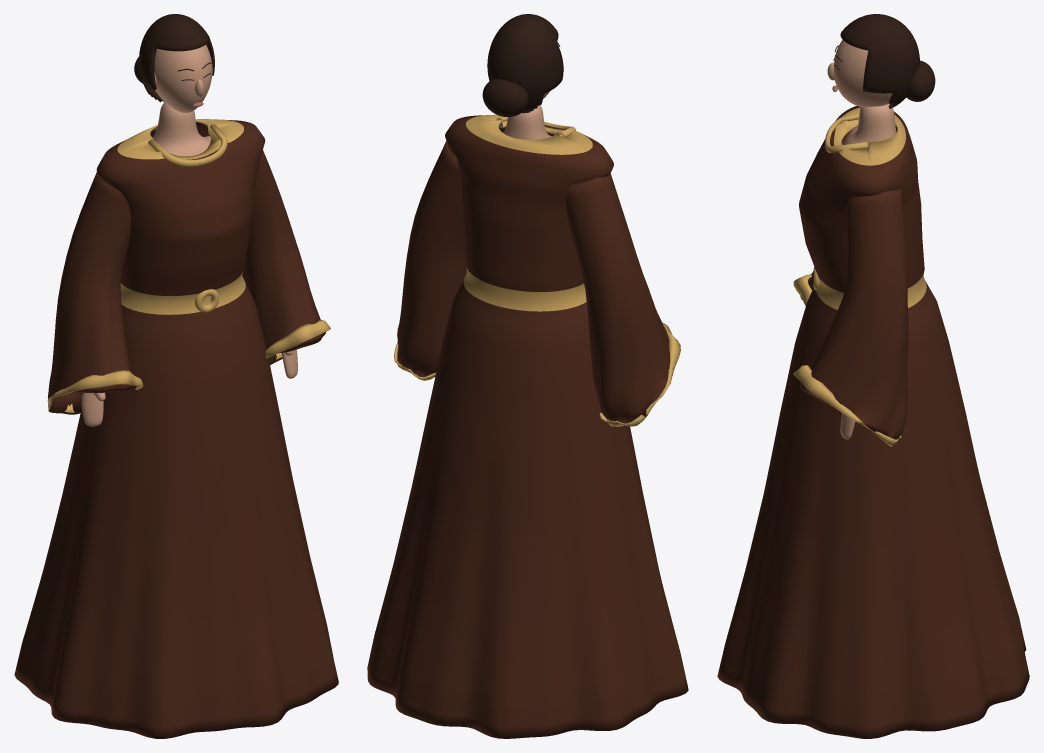
File: kaftan-model-01.glb
3 renders of one model, left to right at view 1: azimuth 30°, elevation 25°; view 2: azimuth 150°, elevation 25°; view 3: azimuth 270°, elevation 25°, orthographic.
Visible parts, largest first — view 1: Kaftan, Body, Hair; view 2: Kaftan, Hair, Body; view 3: Kaftan, Hair, Body.
Part boxes in pixels (x1,y1,x2,y2): Kaftan: (14, 119, 338, 738); Body: (81, 45, 297, 426); Hair: (134, 14, 214, 102); Kaftan: (367, 114, 688, 738); Hair: (482, 14, 563, 116); Body: (503, 41, 560, 139); Kaftan: (717, 106, 1029, 738); Hair: (840, 14, 935, 108); Body: (827, 39, 896, 439).
Size of the model in its own units: 0.7768 by 1.75 by 0.7403.
Materials: 4 (4 with a texture image).
